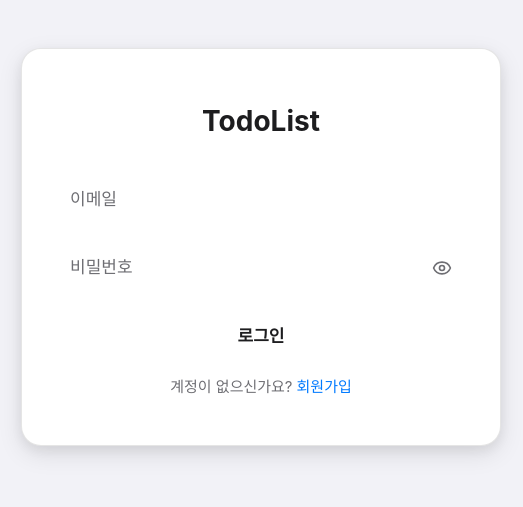
Scenario: LoginPage › AUTH_INVALID_CREDENTIALS 오류 시 오류 메시지가 표시된다
Type "wrong@example.com" into the field labelled "이메일". click: (261, 200)
box: [54,174,468,226]
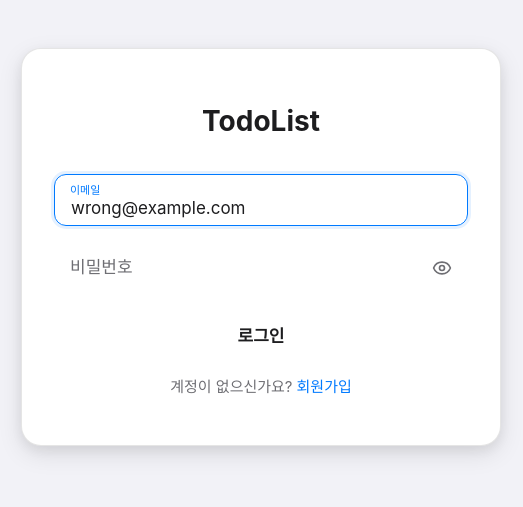
Type "wrongpassword" into the password field labelled "비밀번호". click: (261, 268)
box: [54,242,468,294]
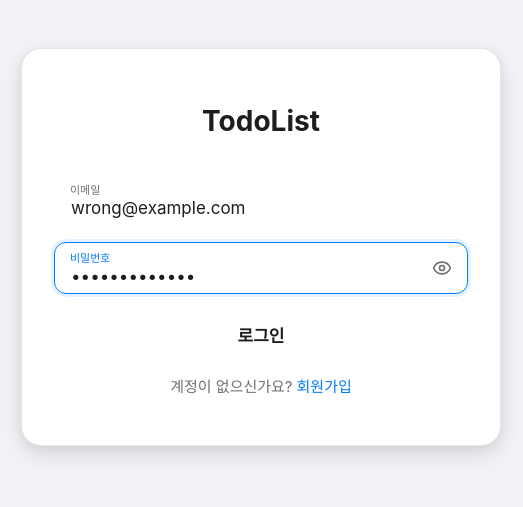
Click the button "로그인". click: (261, 335)
box: [54,310,468,360]
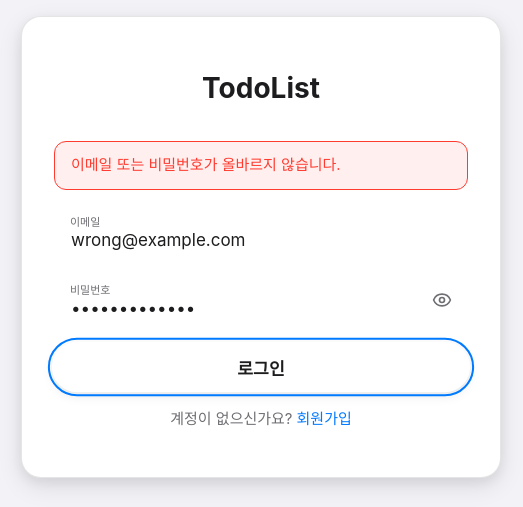
Expected: the text "이메일 또는 비밀번호가 올바르지 않습니다." is shown, [54,141,468,190]
